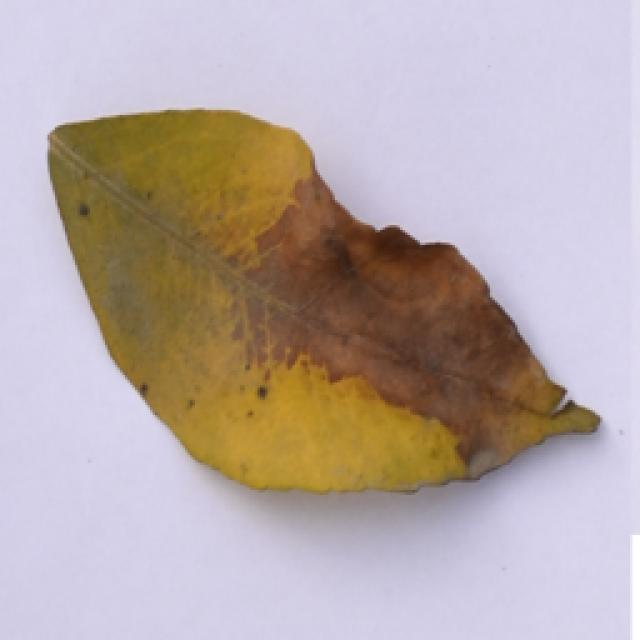blackspot: (31, 96, 604, 518)
